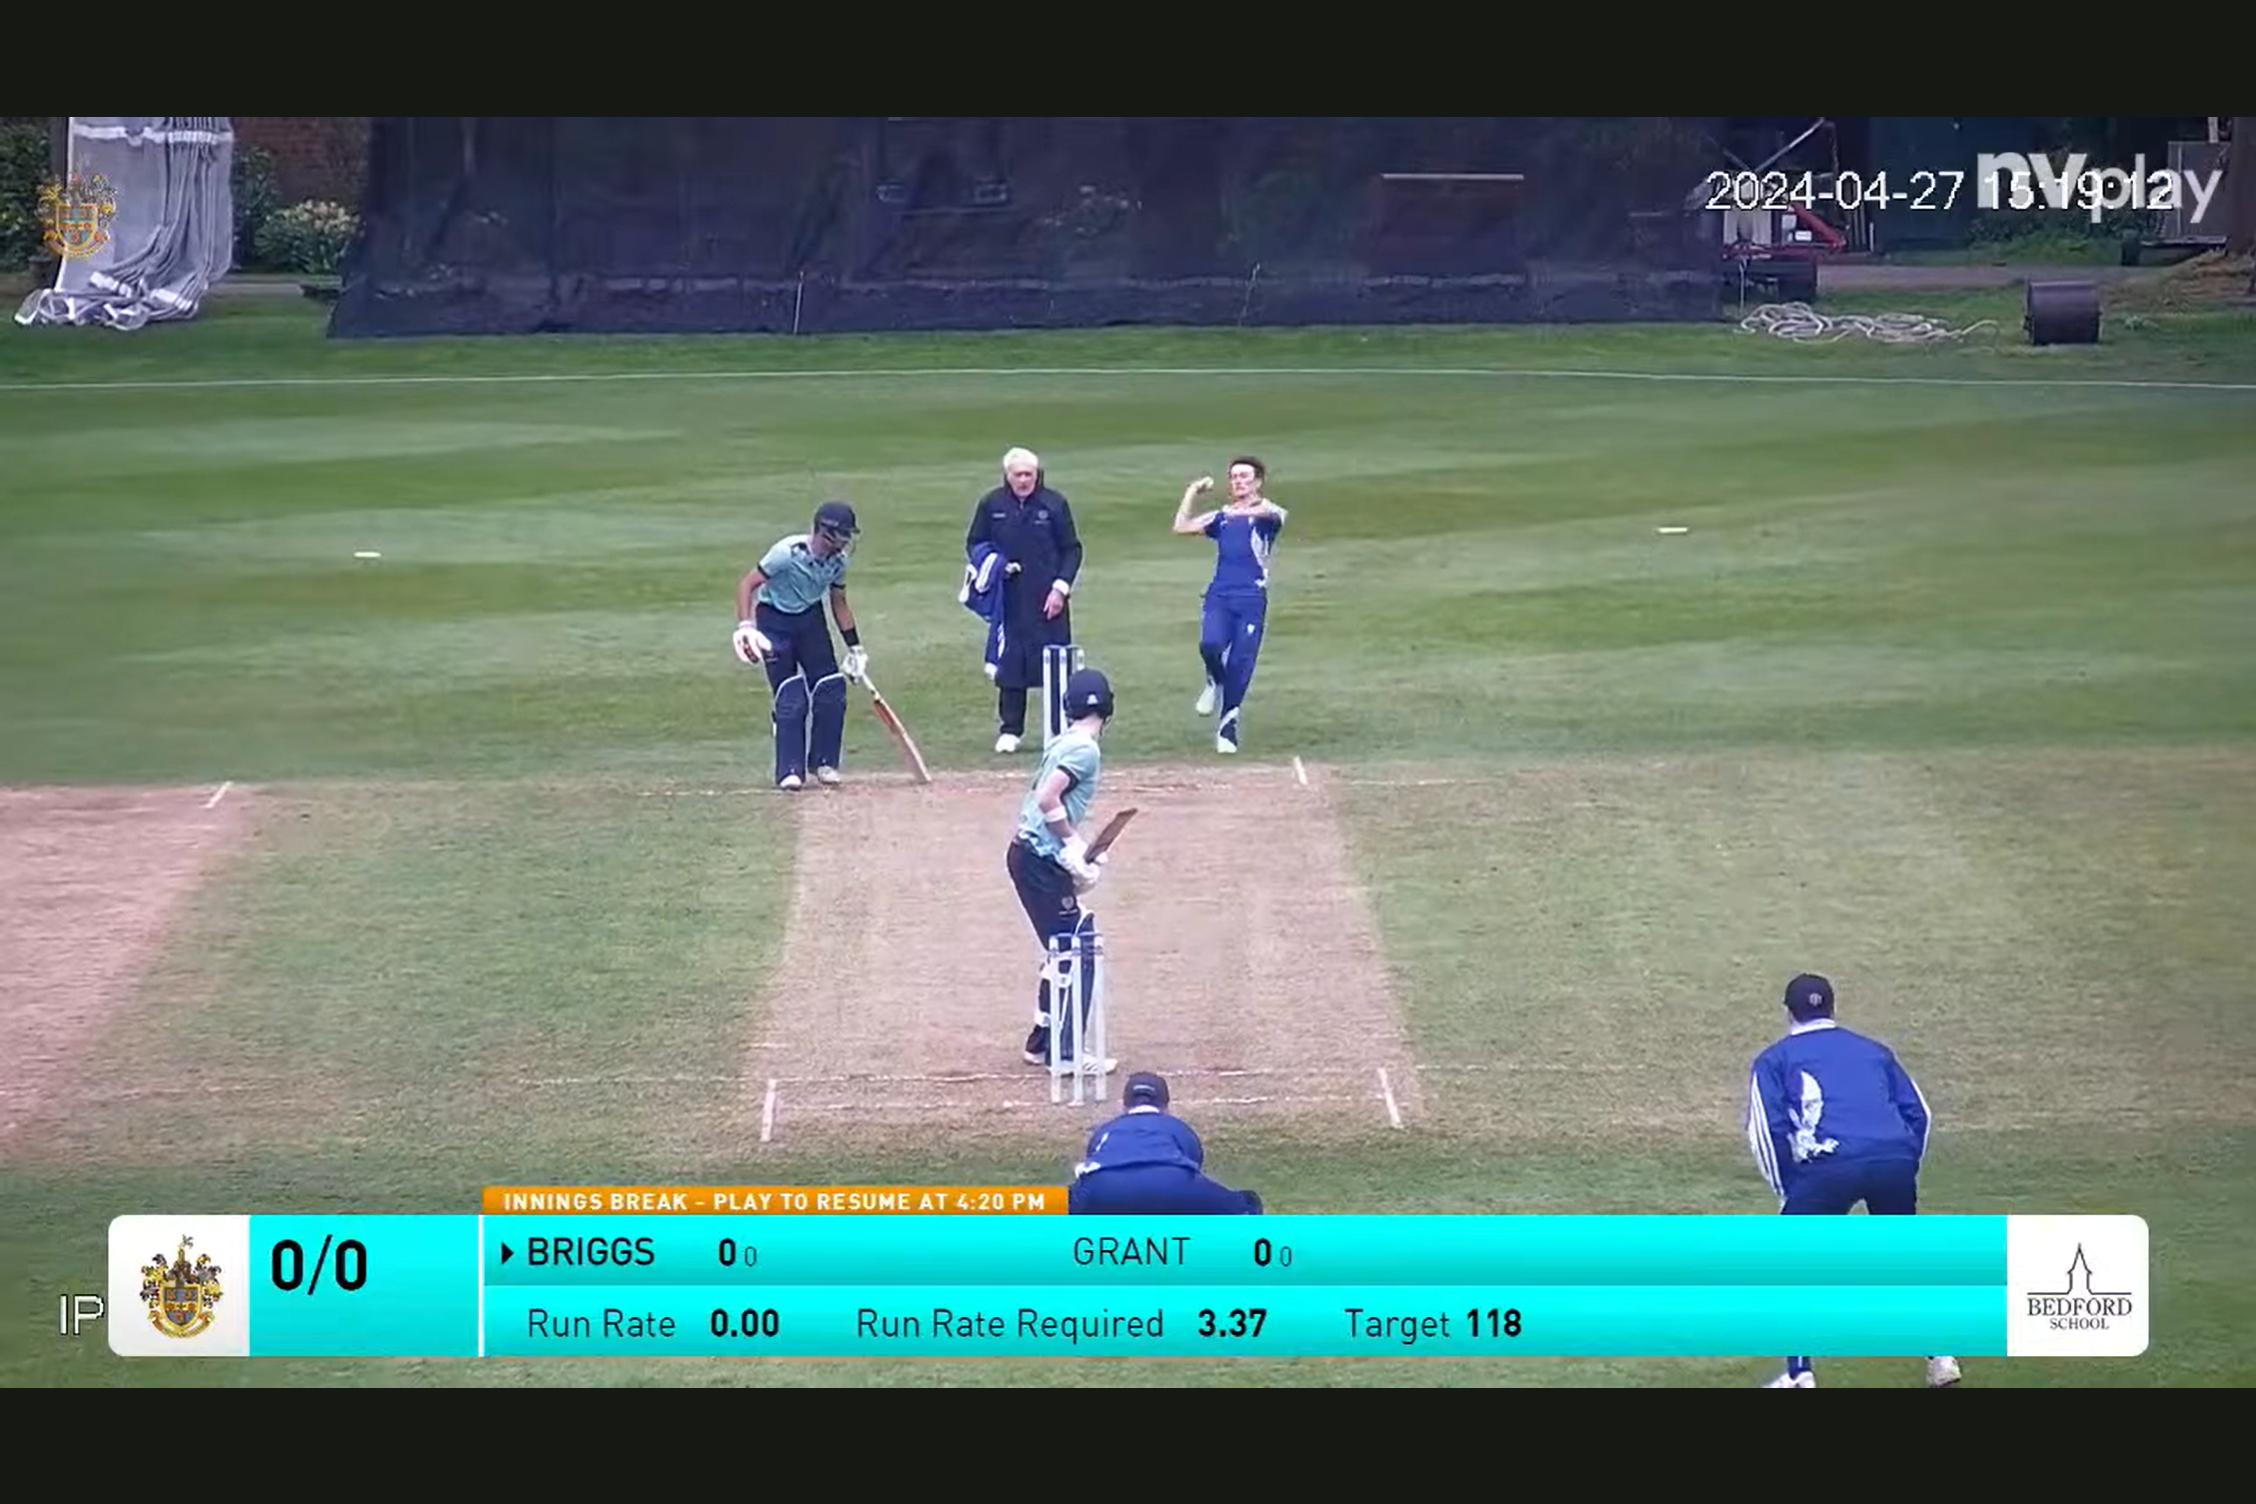batsman: (999, 641, 1133, 1063)
bowler running in: (1162, 413, 1326, 769)
non striker: (739, 462, 922, 816)
wicket keeper: (1074, 1061, 1245, 1200)
